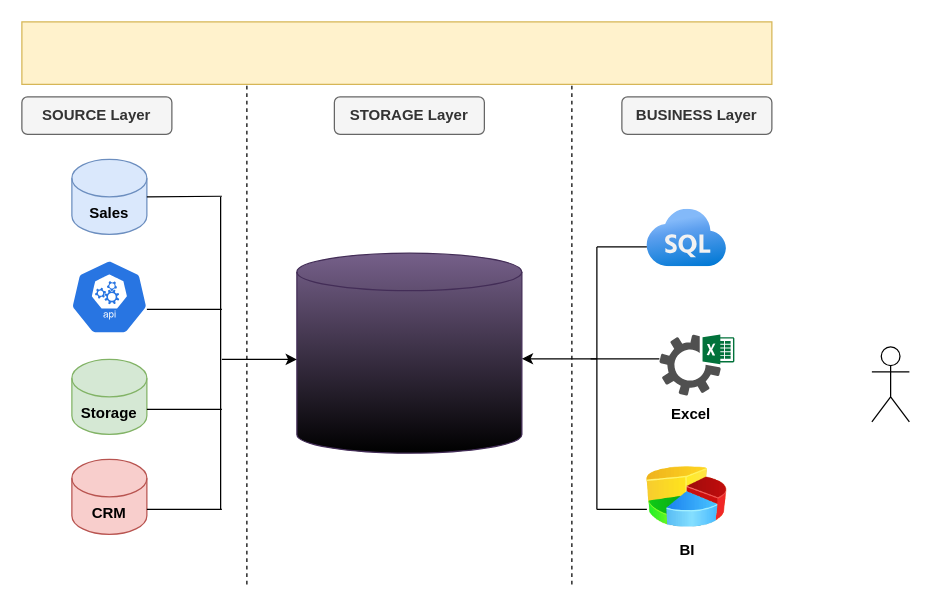
This 948x608 diagram has some shape labels left out. The shapes that lost their labels are listed below. From the top down, each one's centre as x and y in pixels, then its label:
the point at 396,52: Analitical Solutions Architecture
the point at 409,352: DATA WAREHOUSE
the point at 890,384: Customer
